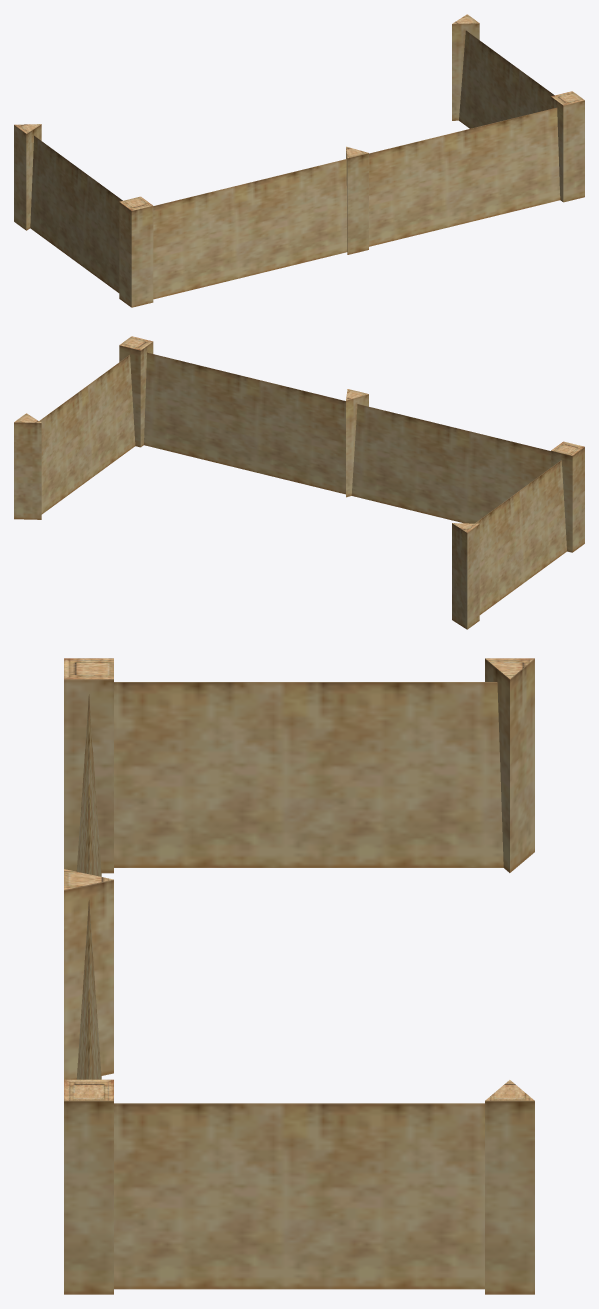
File: poi_tato_corral_half_32x32_s04_l1.fbx
3 views of the same model, one above another, from view 1: azimuth 30°, elevation 25°; view 2: azimuth 150°, elevation 25°; view 3: azimuth 270°, elevation 25° (orthographic). The views are drawn at different scales.
Visible parts, largest first — view 1: mesh_node; view 2: mesh_node; view 3: mesh_node.
Part boxes in pixels (bbox=[...]): mesh_node: bbox=[14, 14, 584, 307]; mesh_node: bbox=[14, 336, 584, 629]; mesh_node: bbox=[64, 658, 534, 1294].
Bounding box in the file's own units: 21 × 4.29 × 9.44.
